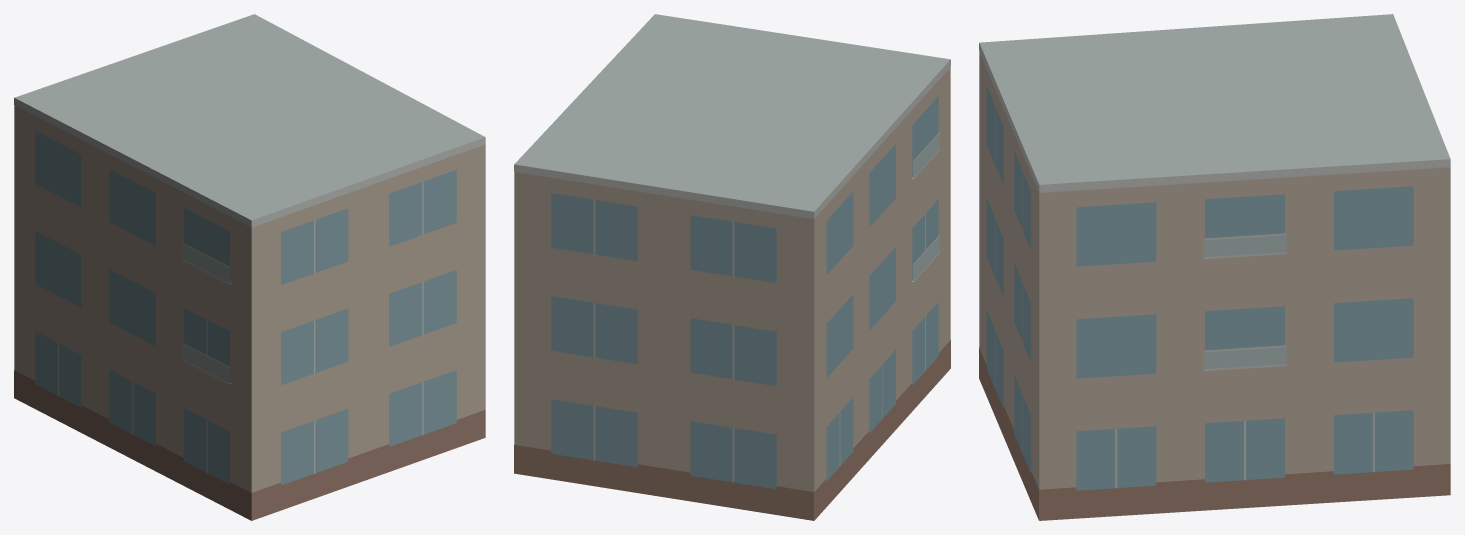
The model's file is survey-upis-32699028.glb.
The picture shows the model from 3 angles, left to right: view 1: azimuth 30°, elevation 25°; view 2: azimuth 150°, elevation 25°; view 3: azimuth 270°, elevation 25°; orthographic projection. The views are drawn at different scales.
Visible parts, largest first — view 1: survey-upis-32699028.tmp; view 2: survey-upis-32699028.tmp; view 3: survey-upis-32699028.tmp.
Boxes of the visible parts, x1,y1,x2,y2 form: survey-upis-32699028.tmp: (14,14,485,520); survey-upis-32699028.tmp: (514,14,950,520); survey-upis-32699028.tmp: (979,14,1450,520).
Size of the model in its own units: 11.14 by 10.2 by 12.98.
